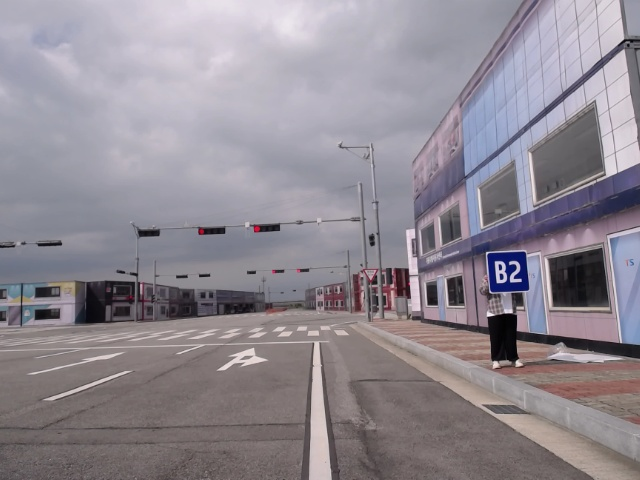delivery_b2: (486, 248, 532, 294)
red_4: (252, 222, 283, 234), (196, 225, 228, 236), (270, 268, 286, 275), (295, 267, 311, 274)
